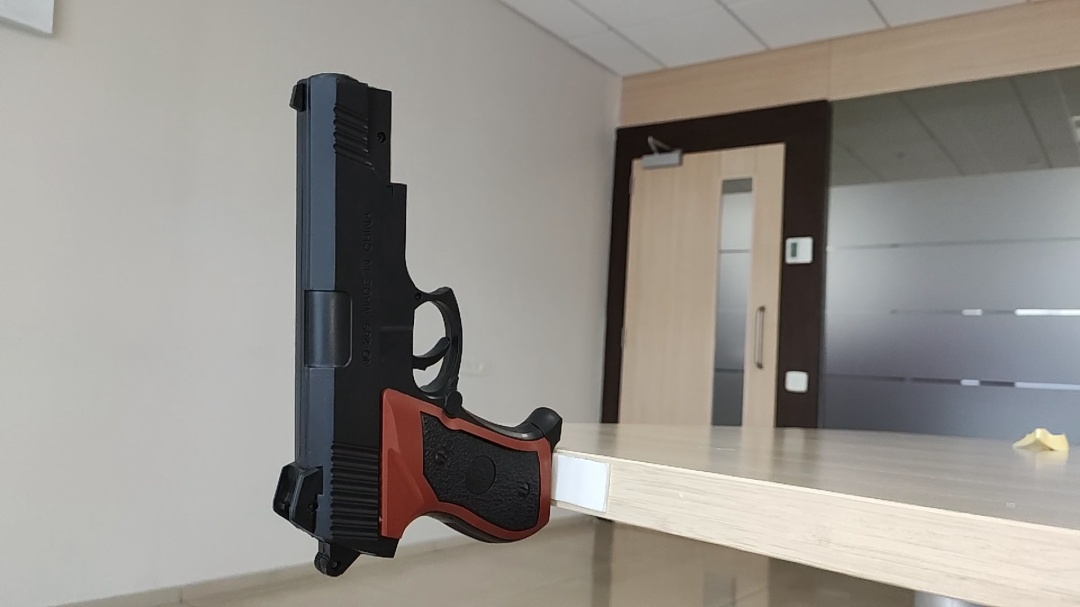gun: (381, 195, 408, 243)
